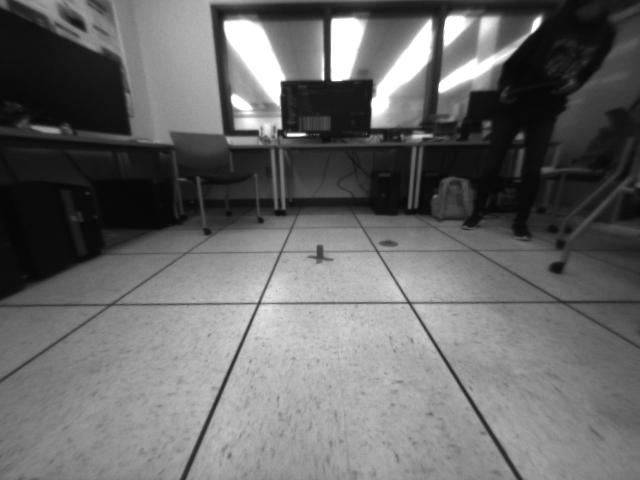X: (306, 244, 335, 265)
